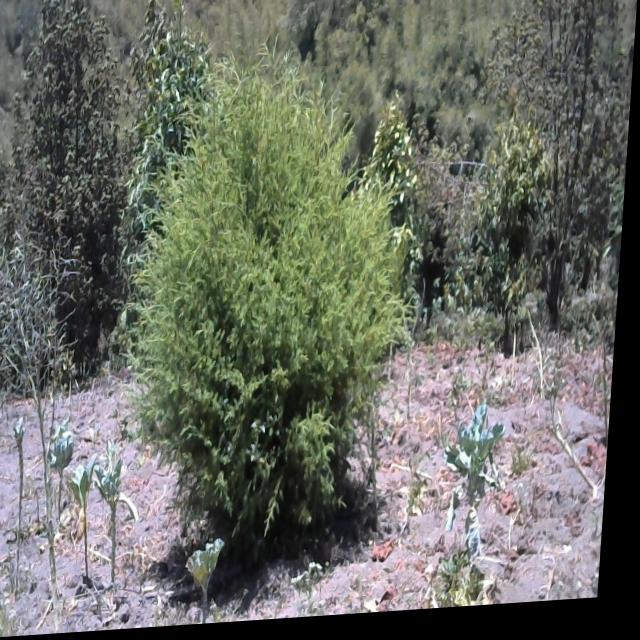Lemon Myrtle: (473, 0, 635, 323), (128, 4, 225, 273), (472, 91, 566, 354), (358, 80, 426, 253)
cedrus: (127, 54, 425, 626)
other: (0, 2, 137, 352)
